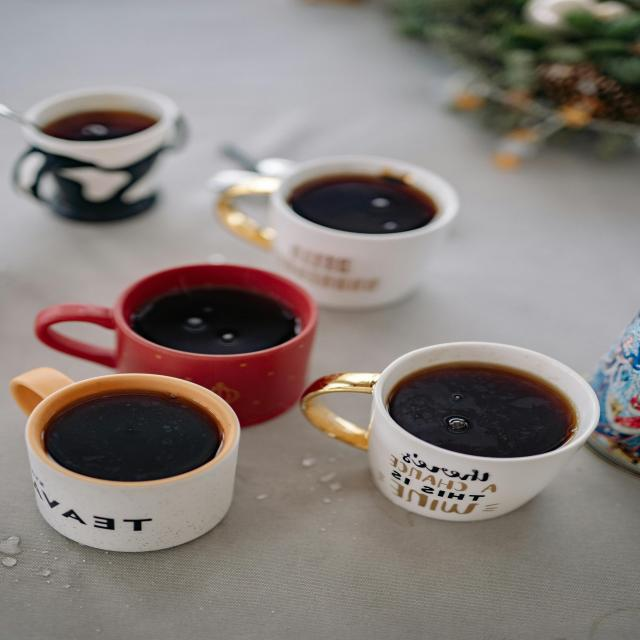Red_cup: (34, 265, 316, 426)
